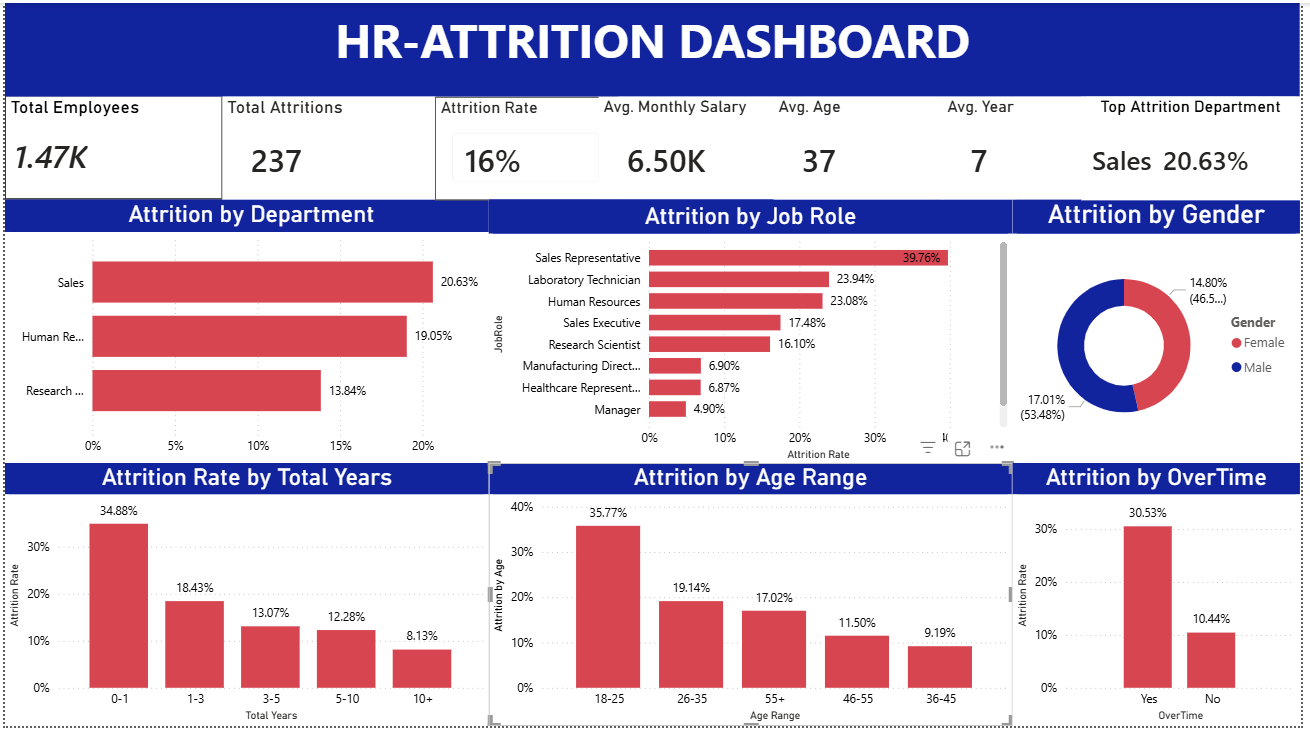

The page's visual inventory and layout, read from the dashboard file:
{"tool":"powerbi","page":{"name":"Page 1","canvas":[1330,743],"ordinal":0},"visuals":[{"type":"clusteredBarChart","title":"Attrition by Department","fields":{"Category":["HR-Employee-Attrition.Department"],"Y":["HR-Employee-Attrition.Attrition Rate"]},"box":[0,201.5,505.8,270.9],"z":0},{"type":"cardVisual","title":"Total Employees","fields":{"Data":["CountNonNull(HR-Employee-Attrition.EmployeeCount)"]},"box":[0,95,223.4,106.5],"z":1000},{"type":"cardVisual","title":"Attrition Rate","fields":{"Data":["HR-Employee-Attrition.Attrition Rate"]},"box":[441.6,96.3,187.4,106.5],"z":2000},{"type":"textbox","box":[0,0,1329.9,96.3],"z":3000},{"type":"cardVisual","title":"Avg. Monthly Salary","fields":{"Data":["Avg(HR-Employee-Attrition.MonthlyIncome)"]},"box":[609.8,96.3,179.7,105.3],"z":4000},{"type":"clusteredBarChart","title":"Attrition by Job Role","fields":{"Category":["HR-Employee-Attrition.JobRole"],"Y":["HR-Employee-Attrition.Attrition Rate"]},"box":[496.8,201.5,537.9,270.9],"z":5000},{"type":"cardVisual","title":"Avg. Age","fields":{"Data":["Avg(HR-Employee-Attrition.Age)"]},"box":[789.5,96.3,173.3,105.3],"z":6000},{"type":"donutChart","title":"Attrition by Gender","fields":{"Series":["HR-Employee-Attrition.Gender"],"Y":["HR-Employee-Attrition.Attrition Rate"]},"box":[1034.7,201.5,295.3,270.9],"z":7000},{"type":"clusteredColumnChart","fields":{"Category":["HR-Employee-Attrition.Total Years"],"Y":["HR-Employee-Attrition.Attrition Rate"]},"box":[0,472.4,496.8,270.9],"z":8000},{"type":"columnChart","title":" Attrition by Age Range","fields":{"Y":["HR-Employee-Attrition.Attrition Rate"],"Category":["HR-Employee-Attrition.Age Range"]},"box":[496.8,472.4,537.9,270.9],"z":9000},{"type":"cardVisual","title":"Total Attritions","fields":{"Data":["CountNonNull(HR-Employee-Attrition.Attrition)"]},"box":[223.4,96.3,218.2,105.3],"z":10000},{"type":"clusteredColumnChart","title":"Attrition by OverTime","fields":{"Category":["HR-Employee-Attrition.OverTime"],"Y":["HR-Employee-Attrition.Attrition Rate"]},"box":[1034.7,472.4,295.3,270.9],"z":11000},{"type":"cardVisual","title":"Avg. Year","fields":{"Data":["Avg(HR-Employee-Attrition.YearsAtCompany)"]},"box":[962.8,96.3,142.5,105.3],"z":12000},{"type":"tableEx","title":"Top Attrition Department","fields":{"Values":["HR-Employee-Attrition.Department","HR-Employee-Attrition.Attrition Rate"]},"box":[1105.3,96.3,224.6,106.5],"z":13000}]}

Visuals, with their boxes in screenshot pixels (x1, y1, x2, y2), scaled from the page's 1330x743 canvas onto the 1310x735 screenshot:
"Attrition by Department" clusteredBarChart: 0:199:498:467
"Total Employees" cardVisual: 0:94:220:199
"Attrition Rate" cardVisual: 435:95:620:201
textbox: 0:0:1309:95
"Avg. Monthly Salary" cardVisual: 601:95:778:199
"Attrition by Job Role" clusteredBarChart: 489:199:1019:467
"Avg. Age" cardVisual: 778:95:948:199
"Attrition by Gender" donutChart: 1019:199:1309:467
clusteredColumnChart - HR-Employee-Attrition.Total Years x HR-Employee-Attrition.Attrition Rate: 0:467:489:734
" Attrition by Age Range" columnChart: 489:467:1019:734
"Total Attritions" cardVisual: 220:95:435:199
"Attrition by OverTime" clusteredColumnChart: 1019:467:1309:734
"Avg. Year" cardVisual: 948:95:1089:199
"Top Attrition Department" tableEx: 1089:95:1309:201
